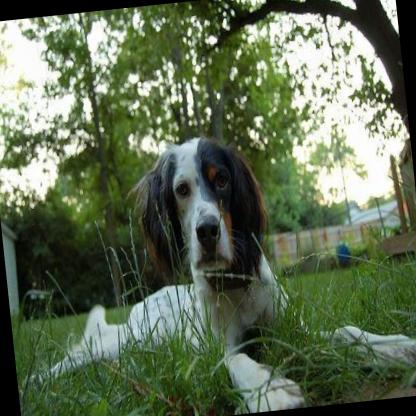English_setter: (0, 113, 416, 416)
